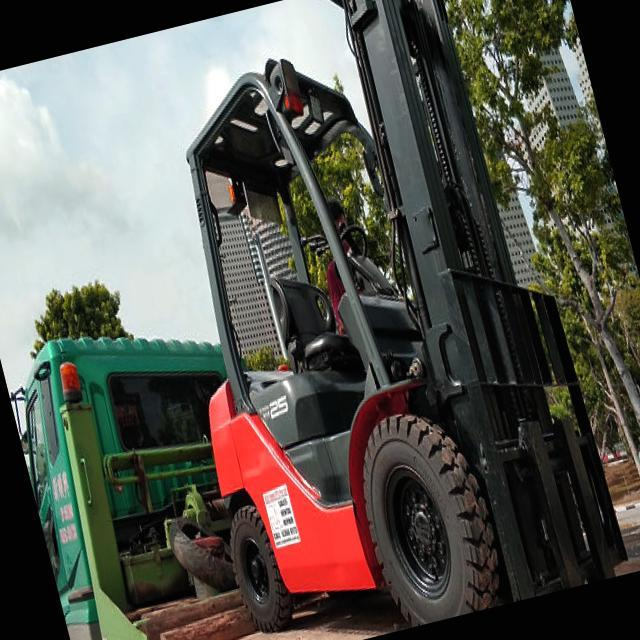forklift: (106, 0, 638, 640)
